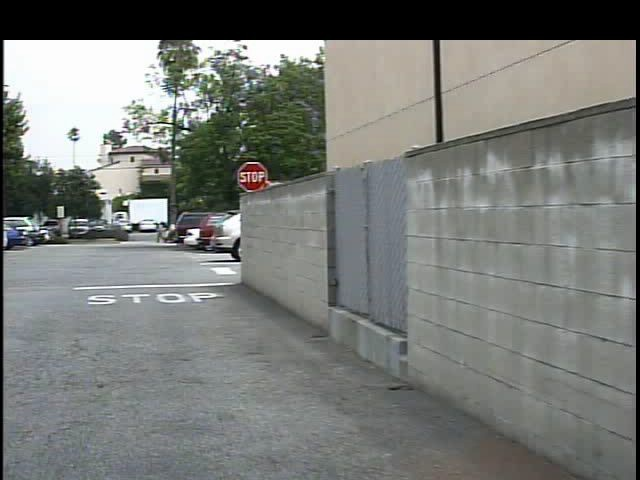person: (142, 220, 156, 247)
